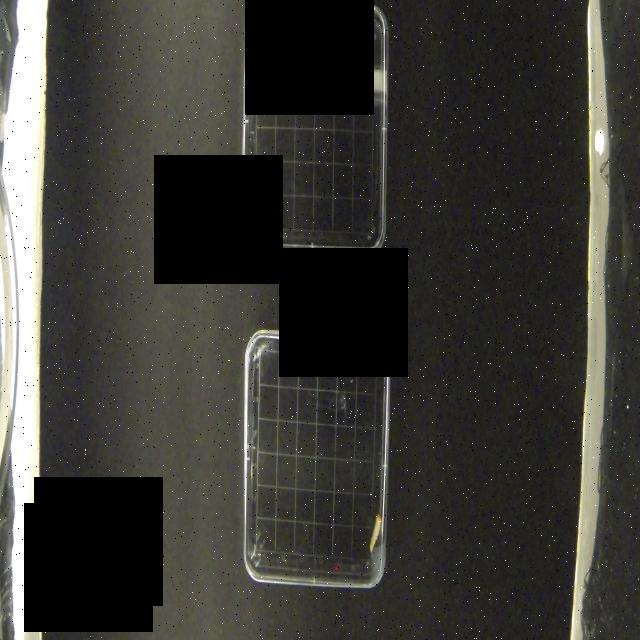larva: (368, 512, 382, 554)
